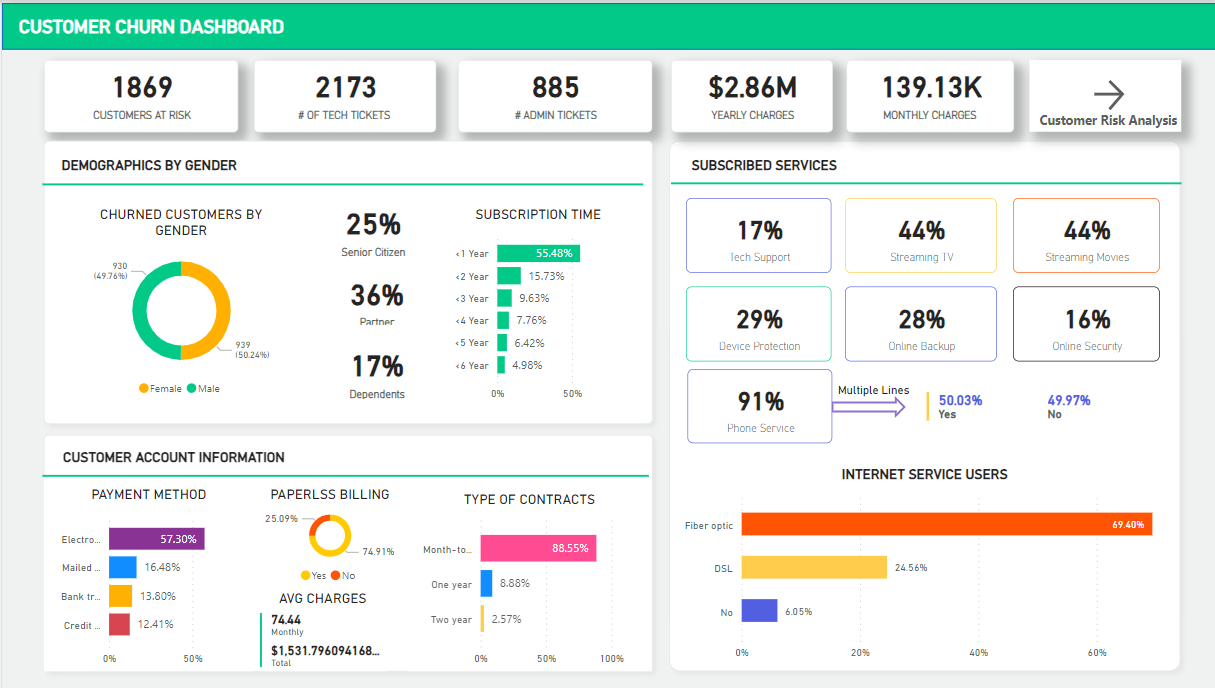

Layout of this report page (visuals, bound fields, positions):
{"tool":"powerbi","page":{"name":"Churn Dashboard","canvas":[1280,720],"ordinal":0},"visuals":[{"type":"shape","box":[0,0,1280,49],"z":0},{"type":"shape","box":[34,136,658,316],"z":0,"group":"g1"},{"type":"card","fields":{"Values":["Churn.% Tech Support"]},"box":[718.2,204.8,152.4,78.4],"z":0,"group":"g4"},{"type":"shape","box":[692,136,555,575],"z":1000},{"type":"donutChart","title":"CHURNED CUSTOMERS BY GENDER","fields":{"Category":["01 Churn-Dataset.gender"],"Y":["CountNonNull(01 Churn-Dataset.gender)"]},"box":[61.1,204.4,252.2,223.4],"z":1000,"group":"g1"},{"type":"card","fields":{"Values":["Churn.% Streaming TV"]},"box":[885.6,204.8,159.5,78.4],"z":1000,"group":"g4"},{"type":"shape","box":[702,123,536,133],"z":1500,"group":"g3"},{"type":"shape","box":[42,430,636.8,133],"z":1500,"group":"g2"},{"type":"textbox","box":[12,8,438,33],"z":2000},{"type":"textbox","box":[703.8,145,522.6,38],"z":2000,"group":"g3"},{"type":"textbox","box":[42.7,146.1,630.9,47.3],"z":2000,"group":"g1"},{"type":"card","fields":{"Values":["Churn.% Streaming Movies"]},"box":[1061,204.8,154.2,78.4],"z":2000,"group":"g4"},{"type":"textbox","box":[44.2,452,636.8,38],"z":2000,"group":"g2"},{"type":"card","fields":{"Values":["Churn.% of Senior Citizen"]},"box":[330.5,204.4,118,77.5],"z":3000,"group":"g1"},{"type":"card","fields":{"Values":["Churn.% Device Protection"]},"box":[718.2,297.4,152.4,78.4],"z":3000,"group":"g4"},{"type":"shape","box":[34,444,658,267],"z":3000},{"type":"card","fields":{"Values":["CountNonNull(01 Churn-Dataset.customerID)"]},"box":[44,60,204,76],"z":4000},{"type":"card","fields":{"Values":["Churn.% of partner"]},"box":[329.5,278.9,125.5,74.5],"z":4000,"group":"g1"},{"type":"card","fields":{"Values":["Churn.% Online Backup"]},"box":[885.6,297.4,159.5,78.4],"z":4000,"group":"g4"},{"type":"shape","box":[42.7,151.1,630.9,78.5],"z":5000,"group":"g1"},{"type":"card","fields":{"Values":["Churn.% Online Sec"]},"box":[1061,297.4,154.2,78.4],"z":5000,"group":"g4"},{"type":"card","fields":{"Values":["Churn.% Phone Service"]},"box":[720,385,152,78],"z":5000},{"type":"card","fields":{"Values":["Sum(01 Churn-Dataset.numTechTickets)"]},"box":[264,60,191,76],"z":6000},{"type":"card","fields":{"Values":["Churn.% of Dependents"]},"box":[329.5,351.4,125.5,79.5],"z":6000,"group":"g1"},{"type":"clusteredBarChart","title":"SUBSCRIPTION TIME","fields":{"Y":["CountNonNull(Churn.Churn)"],"Category":["Churn.Tenure(in years)"]},"box":[466.9,204.4,190.5,220.4],"z":7000,"group":"g1"},{"type":"clusteredBarChart","title":"PAYMENT METHOD","fields":{"Y":["CountNonNull(Churn.PaymentMethod)"],"Category":["Churn.PaymentMethod"]},"box":[44,497,220,204],"z":7000},{"type":"card","fields":{"Values":["Sum(01 Churn-Dataset.TotalCharges)"]},"box":[702,60,170,76],"z":8000},{"type":"card","fields":{"Values":["Sum(01 Churn-Dataset.numAdminTickets)"]},"box":[479,60,204,76],"z":9000},{"type":"group","id":"g1","title":"Group 1","box":[34,136,658,316],"z":10000},{"type":"card","fields":{"Values":["Sum(01 Churn-Dataset.MonthlyCharges)"]},"box":[887,60,176,76],"z":11000},{"type":"donutChart","title":"PAPERLSS BILLING","fields":{"Category":["Churn.PaperlessBilling"],"Y":["CountNonNull(Churn.PaperlessBilling)"]},"box":[248,497,194,126],"z":12000},{"type":"multiRowCard","title":"AVG CHARGES","fields":{"Values":["Avg(Churn.MonthlyCharges)","Avg(Churn.TotalCharges)"]},"box":[264,606,143,95],"z":13000},{"type":"clusteredBarChart","title":"TYPE OF CONTRACTS","fields":{"Category":["Churn.Contract"],"Y":["CountNonNull(Churn.Contract)"]},"box":[426,497,257,204],"z":14000},{"type":"group","id":"g2","title":"Group 2","box":[42,430,639,133],"z":15000},{"type":"group","id":"g3","title":"Group 2","box":[702,123,536,133],"z":16000},{"type":"group","id":"g4","title":"Group 3","box":[718.2,204.8,497.7,171.7],"z":17000},{"type":"shape","box":[871,412,78,23],"z":18000},{"type":"textbox","box":[872,391,300,30],"z":19000},{"type":"multiRowCard","fields":{"Values":["Churn.% Yes-Multiple Lines","Churn.% No-Multiple Lines"]},"box":[965,404,252,53],"z":20000},{"type":"barChart","title":"INTERNET SERVICE USERS","fields":{"Y":["CountNonNull(Churn.InternetService)"],"Category":["Churn.InternetService"]},"box":[710,471,517,230],"z":21000},{"type":"actionButton","title":"Customer Risk Analysis","box":[1078.9,59.9,159.1,75.6],"z":22000}]}

Visuals, with their boxes in screenshot pixels (x1, y1, x2, y2), scaled from the page's 1280x720 canvas onto the 1215x688 screenshot:
shape: {"left": 0, "top": 0, "right": 1214, "bottom": 47}
shape: {"left": 32, "top": 130, "right": 657, "bottom": 432}
card - Churn.% Tech Support: {"left": 682, "top": 196, "right": 826, "bottom": 271}
shape: {"left": 657, "top": 130, "right": 1184, "bottom": 679}
"CHURNED CUSTOMERS BY GENDER" donutChart: {"left": 58, "top": 195, "right": 297, "bottom": 409}
card - Churn.% Streaming TV: {"left": 841, "top": 196, "right": 992, "bottom": 271}
shape: {"left": 666, "top": 118, "right": 1175, "bottom": 245}
shape: {"left": 40, "top": 411, "right": 644, "bottom": 538}
textbox: {"left": 11, "top": 8, "right": 427, "bottom": 39}
textbox: {"left": 668, "top": 139, "right": 1164, "bottom": 175}
textbox: {"left": 41, "top": 140, "right": 639, "bottom": 185}
card - Churn.% Streaming Movies: {"left": 1007, "top": 196, "right": 1153, "bottom": 271}
textbox: {"left": 42, "top": 432, "right": 646, "bottom": 468}
card - Churn.% of Senior Citizen: {"left": 314, "top": 195, "right": 426, "bottom": 269}
card - Churn.% Device Protection: {"left": 682, "top": 284, "right": 826, "bottom": 359}
shape: {"left": 32, "top": 424, "right": 657, "bottom": 679}
card - CountNonNull(01 Churn-Dataset.customerID): {"left": 42, "top": 57, "right": 235, "bottom": 130}
card - Churn.% of partner: {"left": 313, "top": 267, "right": 432, "bottom": 338}
card - Churn.% Online Backup: {"left": 841, "top": 284, "right": 992, "bottom": 359}
shape: {"left": 41, "top": 144, "right": 639, "bottom": 219}
card - Churn.% Online Sec: {"left": 1007, "top": 284, "right": 1153, "bottom": 359}
card - Churn.% Phone Service: {"left": 683, "top": 368, "right": 828, "bottom": 442}
card - Sum(01 Churn-Dataset.numTechTickets): {"left": 251, "top": 57, "right": 432, "bottom": 130}
card - Churn.% of Dependents: {"left": 313, "top": 336, "right": 432, "bottom": 412}
"SUBSCRIPTION TIME" clusteredBarChart: {"left": 443, "top": 195, "right": 624, "bottom": 406}
"PAYMENT METHOD" clusteredBarChart: {"left": 42, "top": 475, "right": 251, "bottom": 670}
card - Sum(01 Churn-Dataset.TotalCharges): {"left": 666, "top": 57, "right": 828, "bottom": 130}
card - Sum(01 Churn-Dataset.numAdminTickets): {"left": 455, "top": 57, "right": 648, "bottom": 130}
"Group 1" group: {"left": 32, "top": 130, "right": 657, "bottom": 432}
card - Sum(01 Churn-Dataset.MonthlyCharges): {"left": 842, "top": 57, "right": 1009, "bottom": 130}
"PAPERLSS BILLING" donutChart: {"left": 235, "top": 475, "right": 420, "bottom": 595}
"AVG CHARGES" multiRowCard: {"left": 251, "top": 579, "right": 386, "bottom": 670}
"TYPE OF CONTRACTS" clusteredBarChart: {"left": 404, "top": 475, "right": 648, "bottom": 670}
"Group 2" group: {"left": 40, "top": 411, "right": 646, "bottom": 538}
"Group 2" group: {"left": 666, "top": 118, "right": 1175, "bottom": 245}
"Group 3" group: {"left": 682, "top": 196, "right": 1154, "bottom": 360}
shape: {"left": 827, "top": 394, "right": 901, "bottom": 416}
textbox: {"left": 828, "top": 374, "right": 1112, "bottom": 402}
multiRowCard - Churn.% Yes-Multiple Lines x Churn.% No-Multiple Lines: {"left": 916, "top": 386, "right": 1155, "bottom": 437}
"INTERNET SERVICE USERS" barChart: {"left": 674, "top": 450, "right": 1165, "bottom": 670}
"Customer Risk Analysis" actionButton: {"left": 1024, "top": 57, "right": 1175, "bottom": 129}
